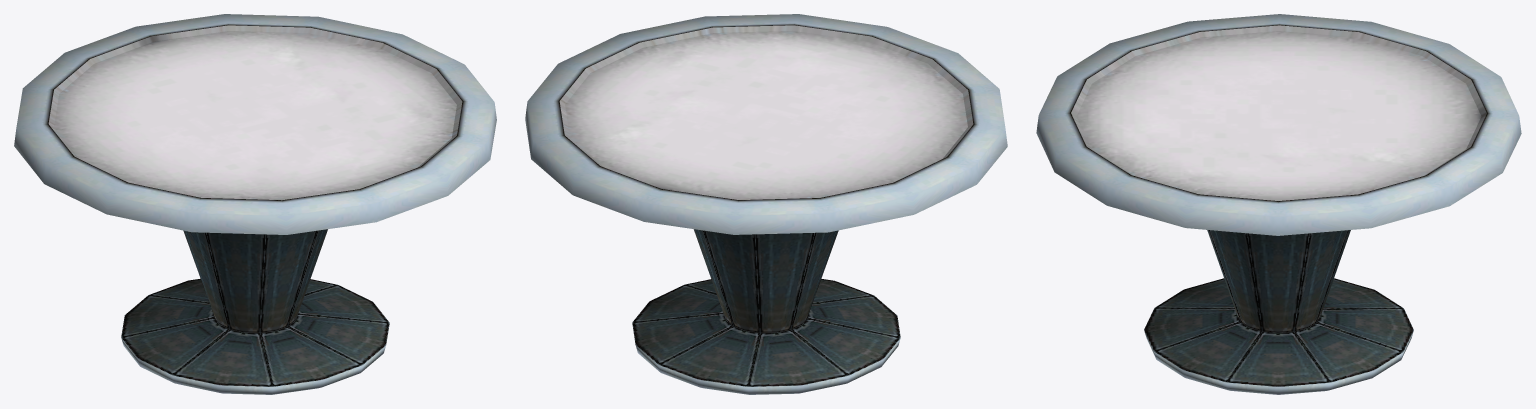
File: thm_frn_table_s03_l0.fbx
3 renders of one model, left to right at view 1: azimuth 30°, elevation 25°; view 2: azimuth 150°, elevation 25°; view 3: azimuth 270°, elevation 25°, orthographic.
Parts seen in each view (by area): view 1: mesh_node; view 2: mesh_node; view 3: mesh_node.
Part boxes in pixels (<box>): mesh_node: <box>14,14,496,394</box>; mesh_node: <box>525,14,1007,394</box>; mesh_node: <box>1036,14,1521,394</box>.
Size of the model in its own units: 1.44 by 0.7503 by 1.44.
Materials: 1 (1 with a texture image).
